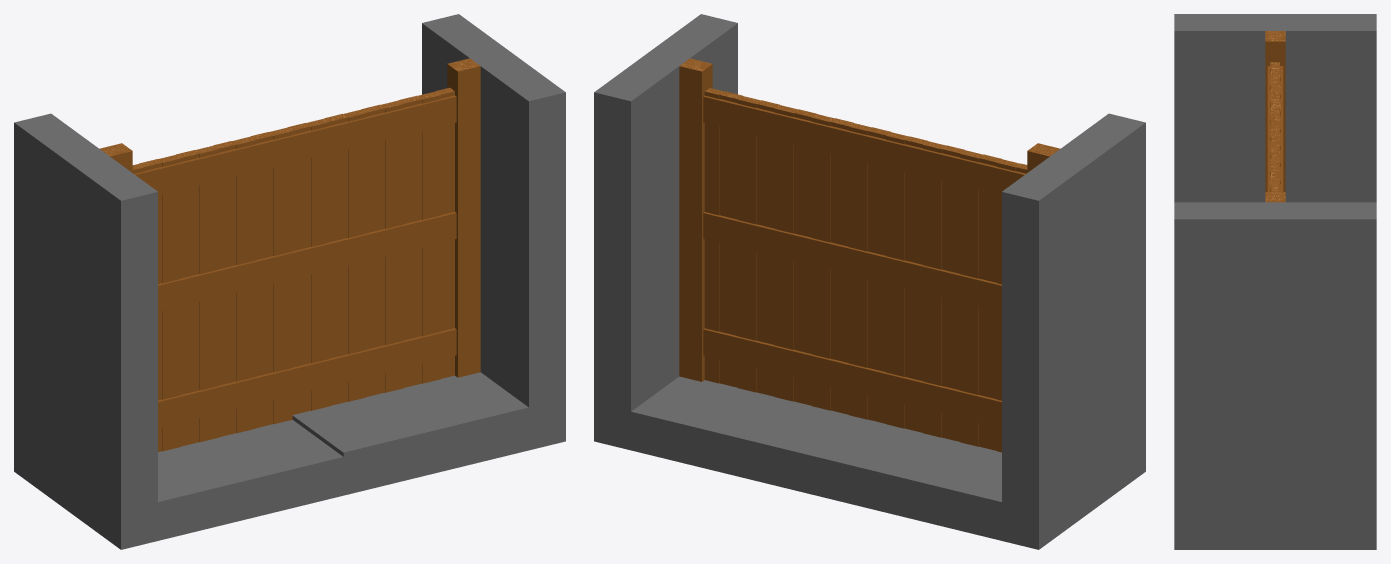
The model's file is Dungeon_Tile_1x2_2_Wall_Gate_Timber_01.fbx.
The picture shows the model from 3 angles, left to right: view 1: azimuth 30°, elevation 25°; view 2: azimuth 150°, elevation 25°; view 3: azimuth 270°, elevation 25°; orthographic projection. The views are drawn at different scales.
Parts seen in each view (by area): view 1: Model; view 2: Model; view 3: Model.
Part boxes in pixels (x1,y1,x2,y2): Model: (14,14,565,549); Model: (594,14,1145,549); Model: (1174,14,1376,549).
Size of the model in its own units: 357 by 267 by 149.
